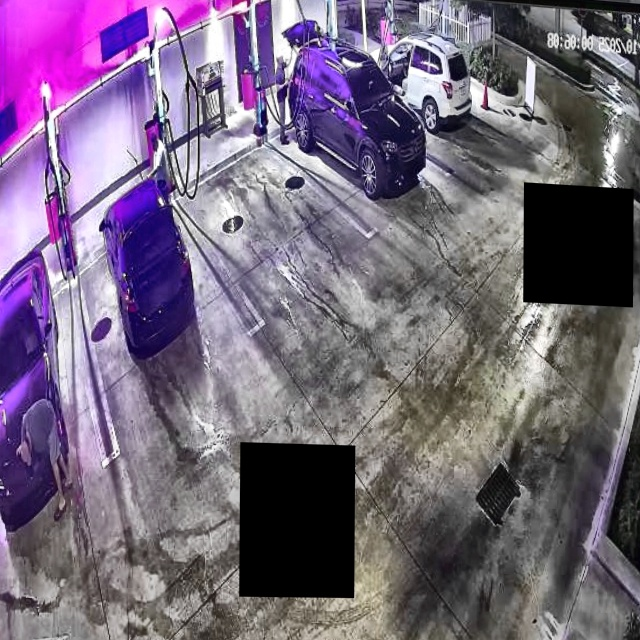Car: (282, 19, 424, 194), (97, 167, 194, 356)
